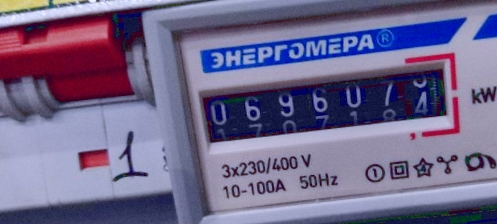0: (342, 78, 363, 110), (208, 97, 228, 126)
4: (410, 86, 430, 117)
6: (242, 92, 262, 122), (309, 83, 329, 113)
7: (376, 75, 398, 108)
9: (275, 88, 295, 118)
screen: (184, 47, 468, 161)
